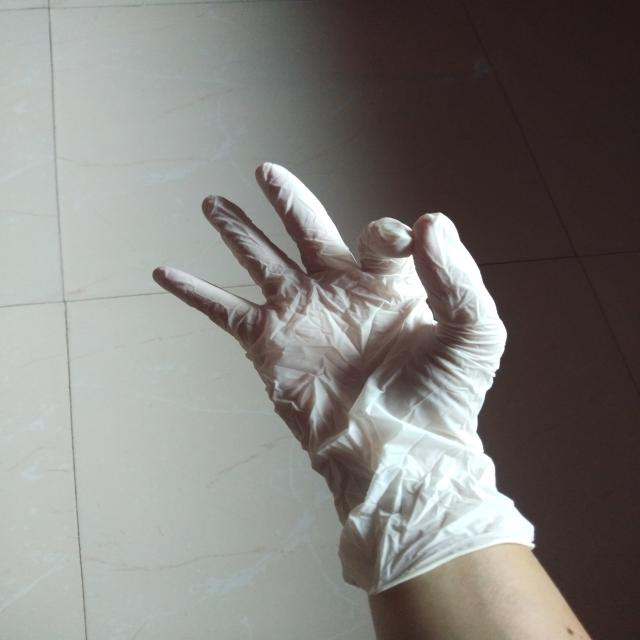glove: (147, 158, 550, 599)
